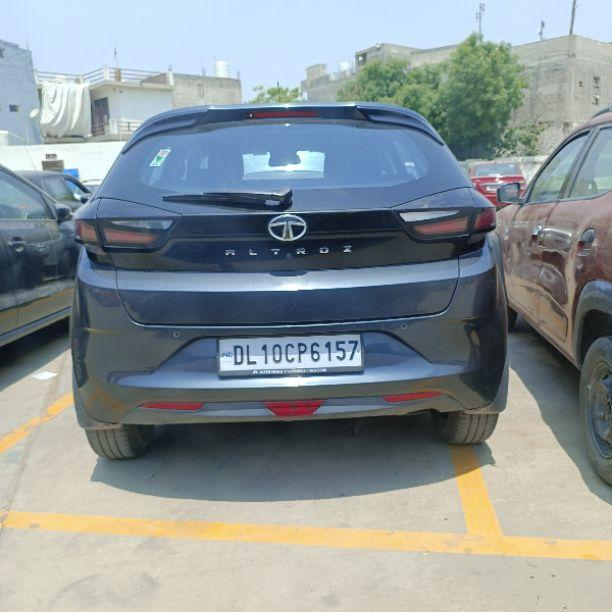license_plate: (215, 332, 364, 377)
